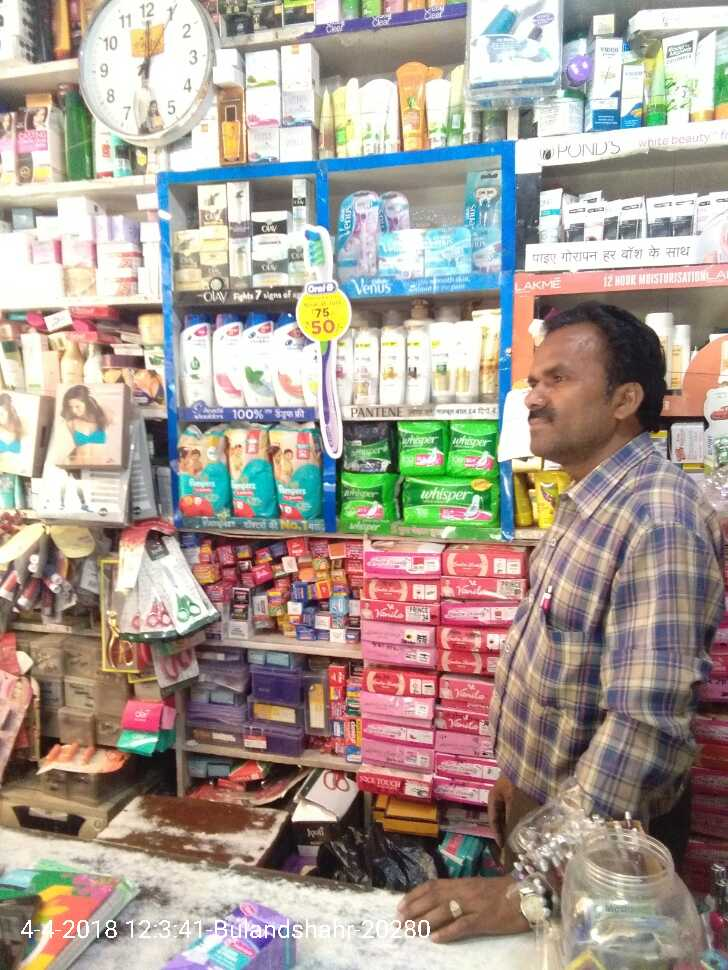venus: (337, 189, 376, 277), (472, 171, 502, 273), (425, 226, 471, 275), (377, 231, 425, 275), (379, 191, 411, 227)
